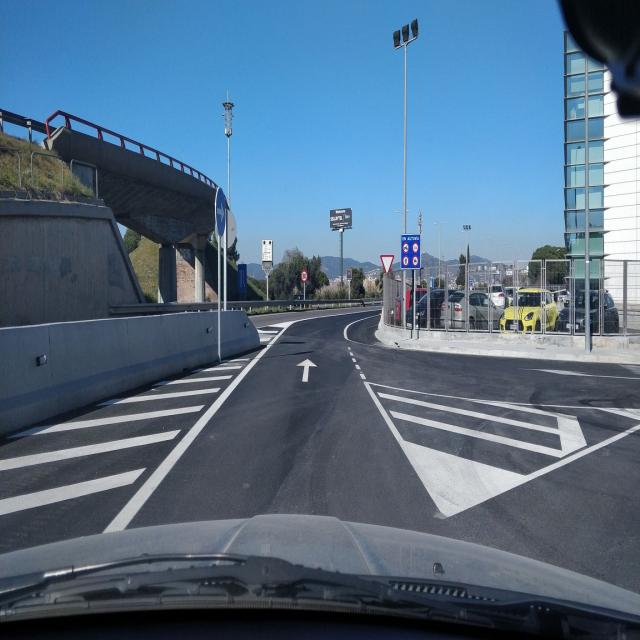car: (559, 289, 620, 333), (440, 289, 502, 332), (503, 289, 559, 330)
